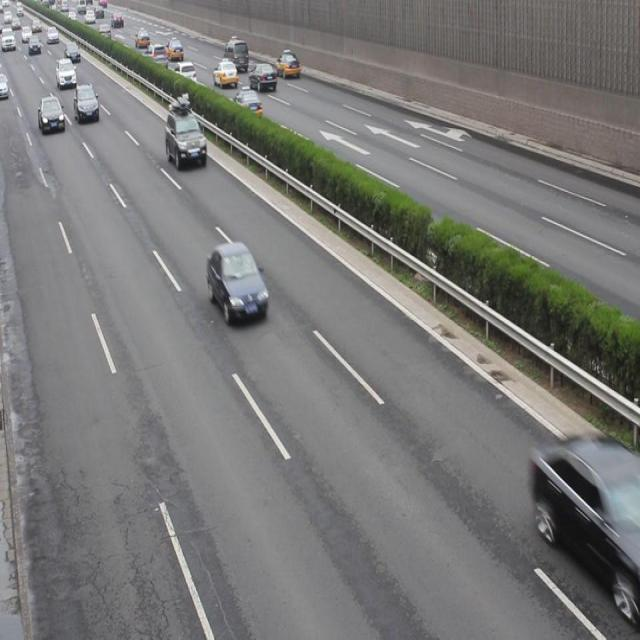car: (530, 434, 640, 614), (206, 241, 267, 326), (164, 98, 206, 170), (73, 81, 100, 125), (38, 95, 66, 135), (230, 88, 262, 120), (248, 60, 276, 94), (212, 59, 237, 88), (274, 51, 299, 79)
